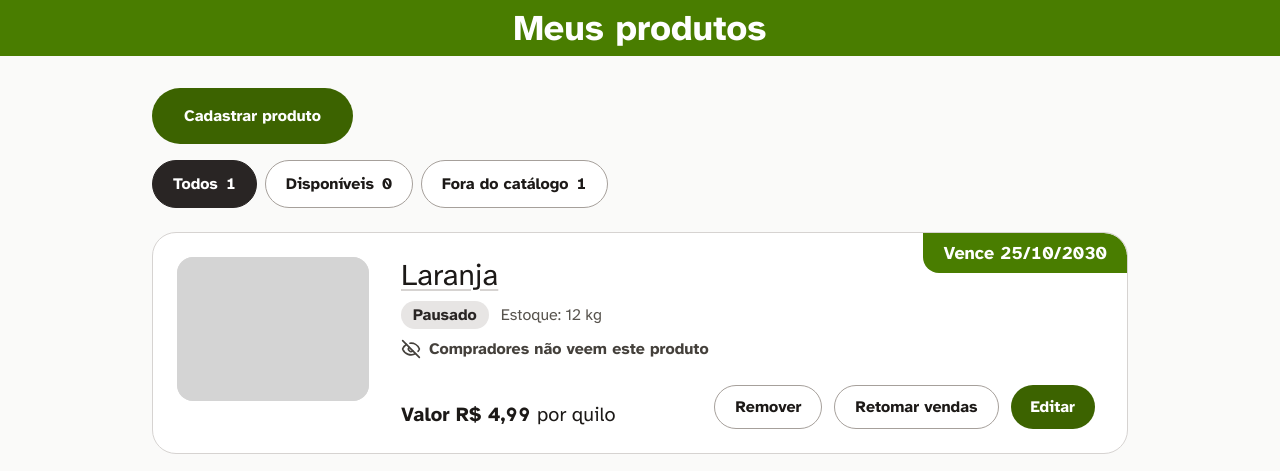
MyProducts, pausing and the tabs › resumes the sales of a paused product
What coordinates should you click on to do the following:
click the button "Retomar vendas"
I would click on:
 (916, 407)
Its box is [834, 385, 998, 429].
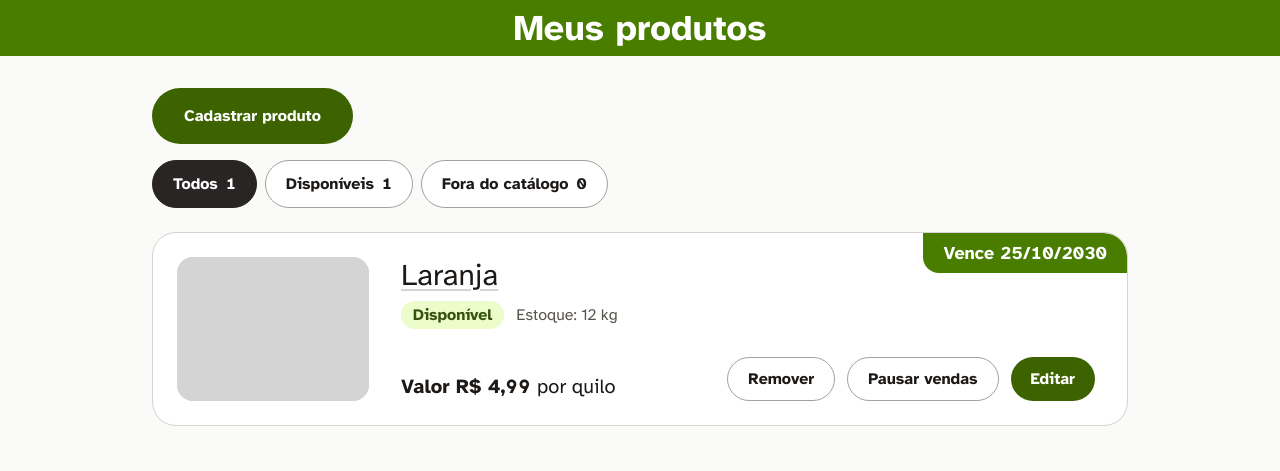
Check: the text "Disponível" is shown, box [401, 301, 504, 329]
